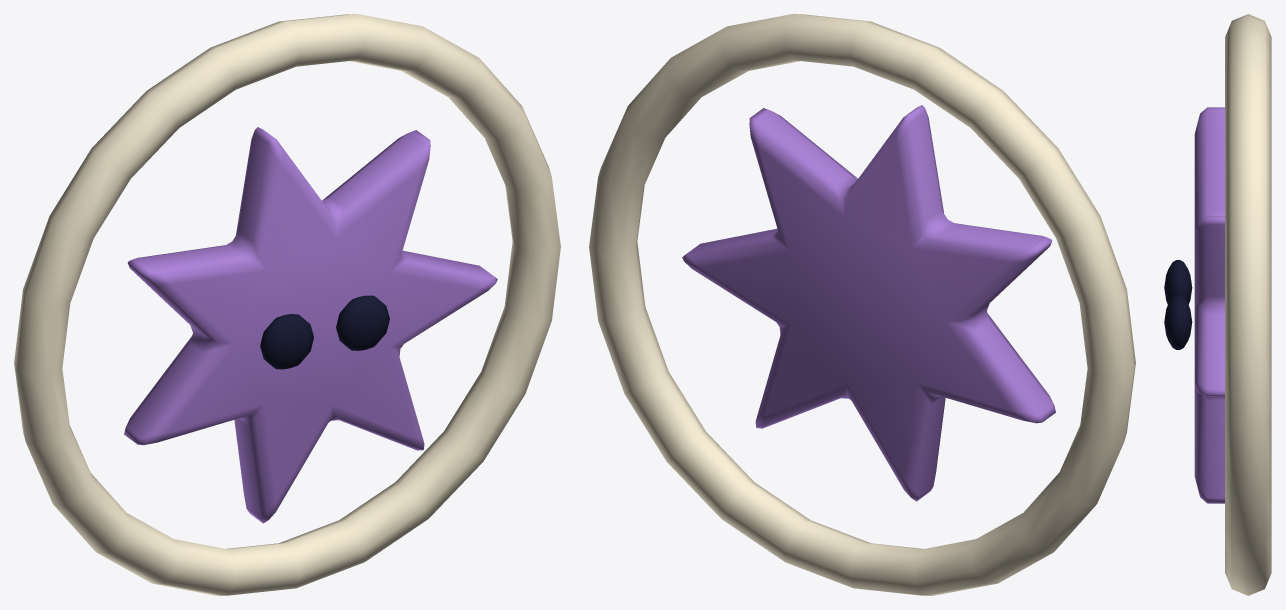
File: r062_dungeon_puzzle_symbols_symbol_11.glb
The picture shows the model from 3 angles, left to right: view 1: azimuth 30°, elevation 25°; view 2: azimuth 150°, elevation 25°; view 3: azimuth 270°, elevation 25°; orthographic projection. The views are drawn at different scales.
Visible parts, largest first — view 1: r062_dungeon_puzzle_symbols_symbol_11.001; view 2: r062_dungeon_puzzle_symbols_symbol_11.001; view 3: r062_dungeon_puzzle_symbols_symbol_11.001.
Boxes of the visible parts, box(x1,y1,x2,y2) form: r062_dungeon_puzzle_symbols_symbol_11.001: box(14, 14, 560, 595); r062_dungeon_puzzle_symbols_symbol_11.001: box(589, 14, 1135, 595); r062_dungeon_puzzle_symbols_symbol_11.001: box(1164, 14, 1271, 595).
Size of the model in its own units: 2.5 by 2.5 by 0.46.
